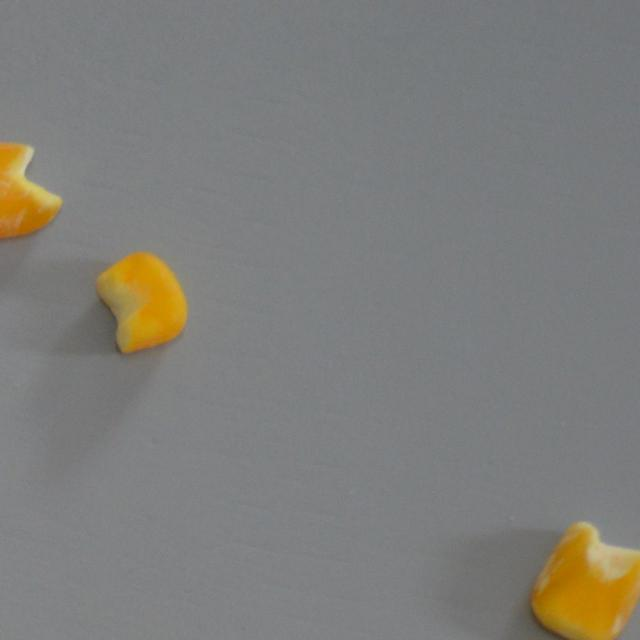no_canjicado: (96, 252, 188, 354)
pelicula: (528, 522, 640, 640), (0, 142, 62, 239)
